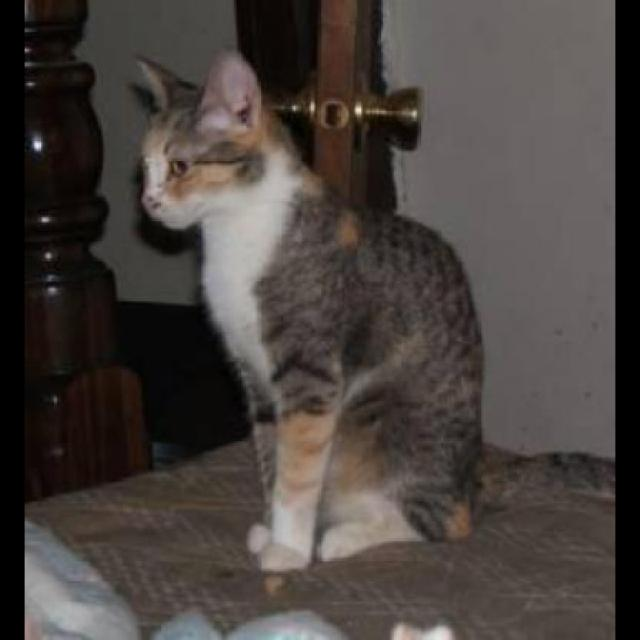unauthorized: (126, 46, 614, 585)
